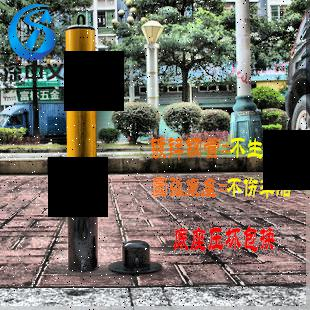bench: (58, 16, 104, 273)
